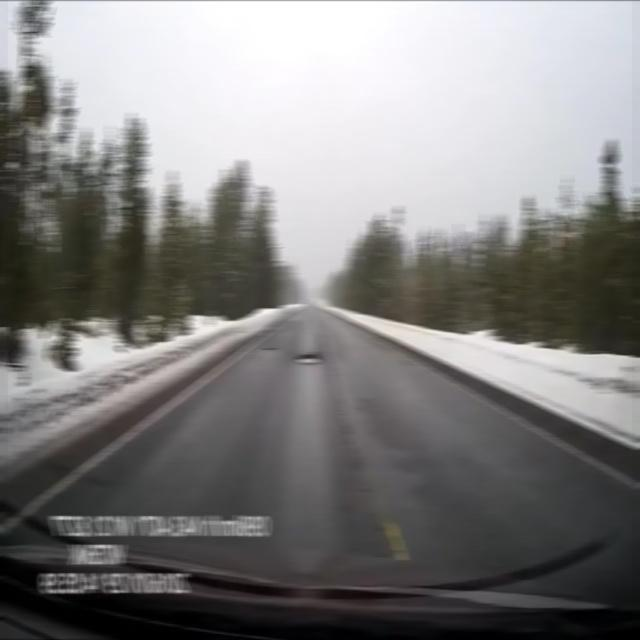Pothole: (291, 349, 328, 370), (259, 343, 282, 355)
